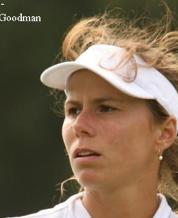face: (65, 99, 117, 165)
